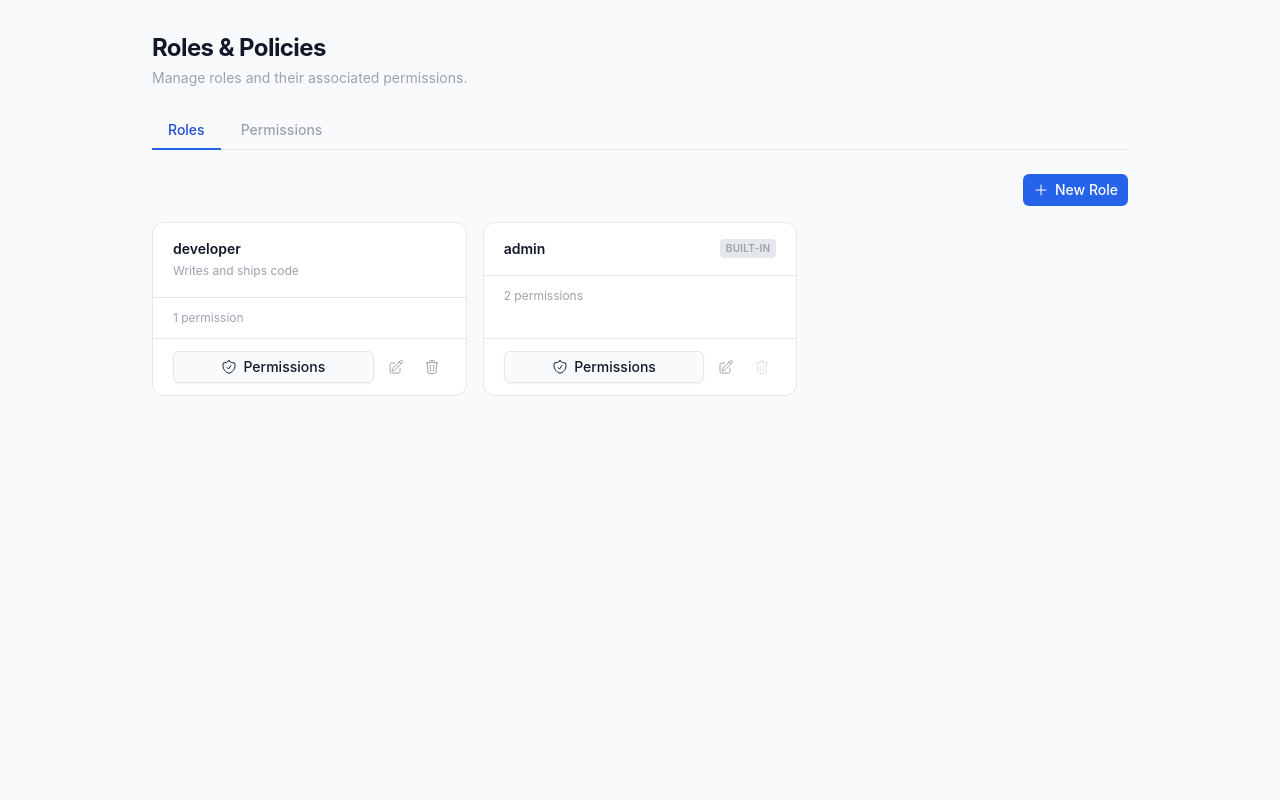
Scenario: RolesPoliciesPage — create role › shows an error message when the create mutation fails
Click the button "New Role": (1076, 190) x1=1023 y1=174 x2=1128 y2=206
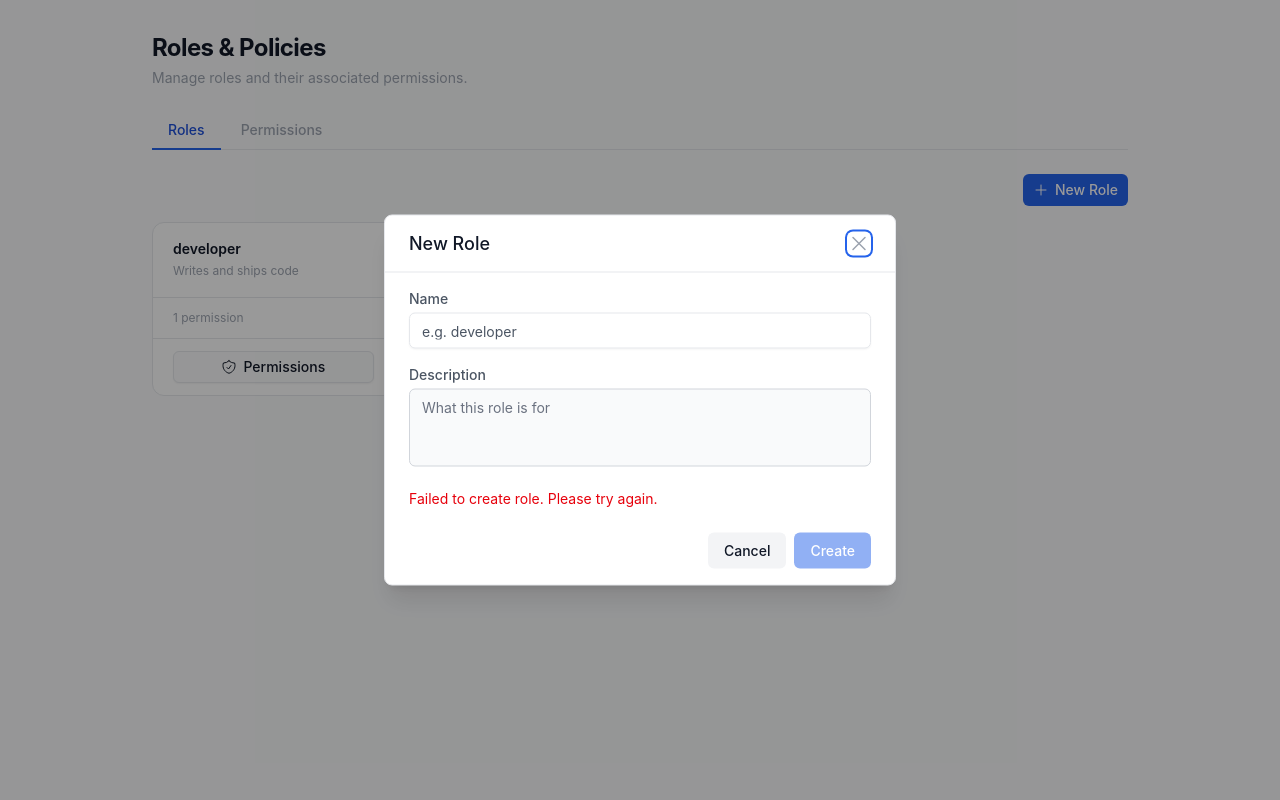
expect the text "Failed to create role. Please try again." is shown: met, box x1=409 y1=490 x2=658 y2=506
